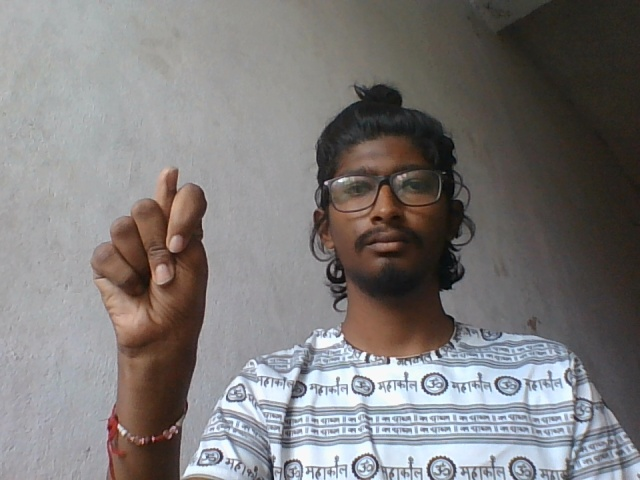Food: (80, 160, 229, 374)
